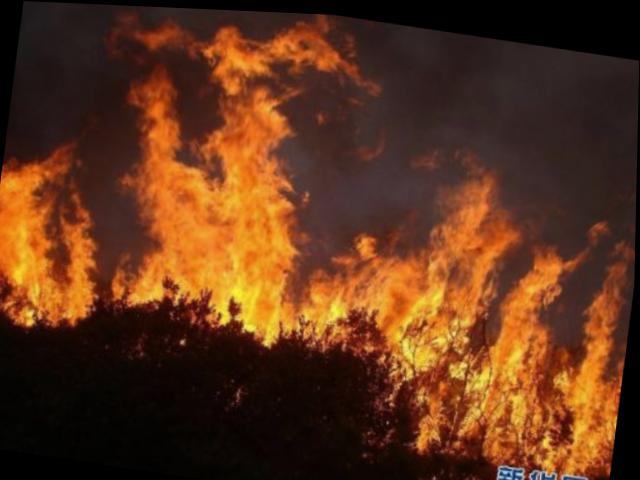fire: (83, 9, 639, 479), (0, 140, 117, 335)
